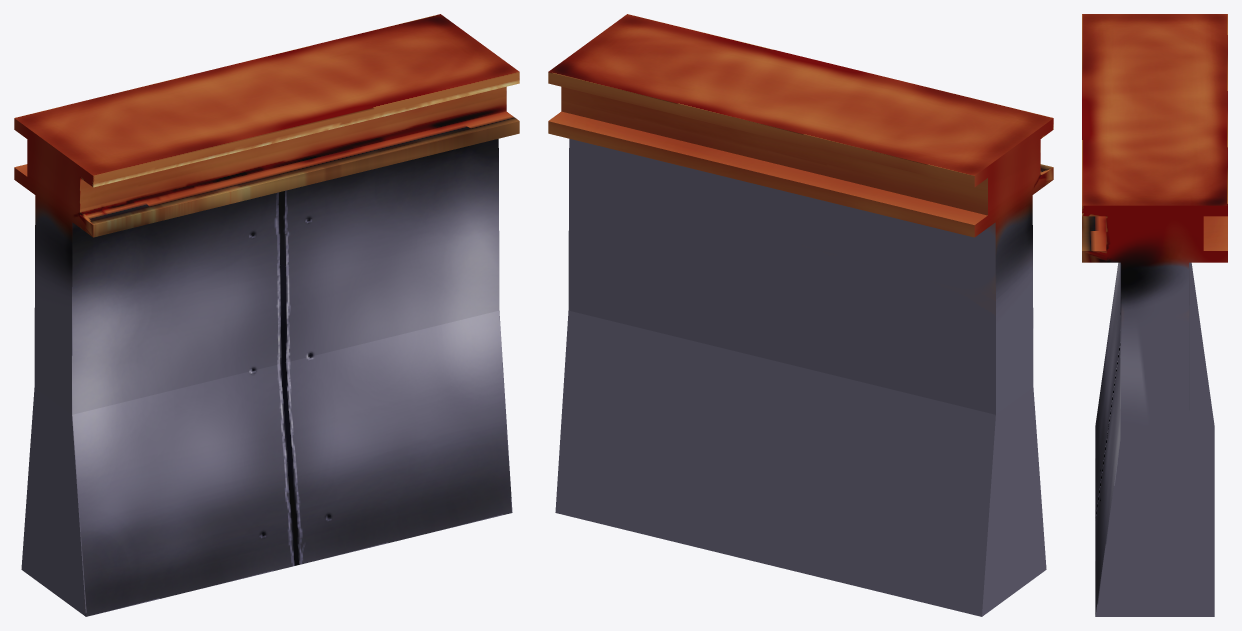
The model's file is Wall_2x2.fbx.
3 renders of one model, left to right at view 1: azimuth 30°, elevation 25°; view 2: azimuth 150°, elevation 25°; view 3: azimuth 270°, elevation 25°, orthographic. The views are drawn at different scales.
Visible parts, largest first — view 1: Wall_2x2; view 2: Wall_2x2; view 3: Wall_2x2.
Boxes of the visible parts, x1=… form: Wall_2x2: x1=14, y1=14, x2=519, y2=616; Wall_2x2: x1=548, y1=14, x2=1053, y2=616; Wall_2x2: x1=1082, y1=14, x2=1227, y2=616.
Bounding box in the file's own units: 200 × 200 × 64.3.
